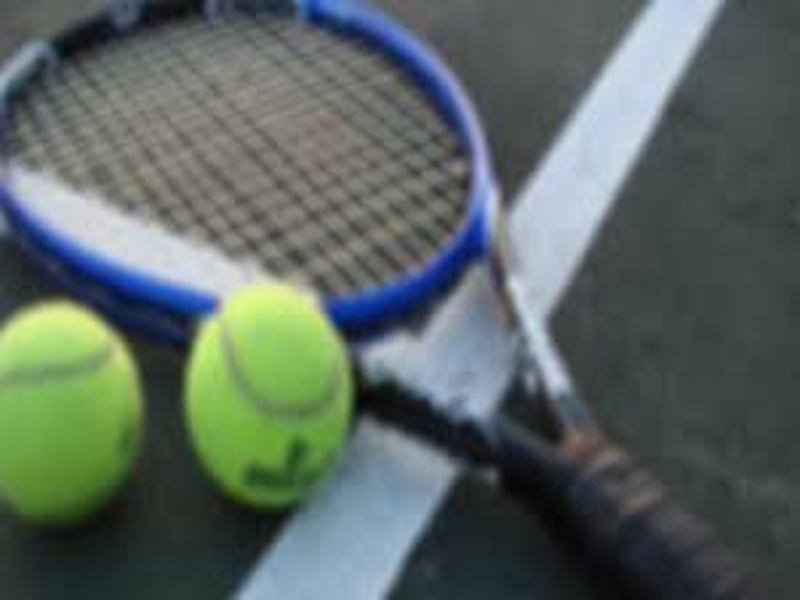tennis ball: (180, 266, 349, 511), (2, 287, 150, 551)
